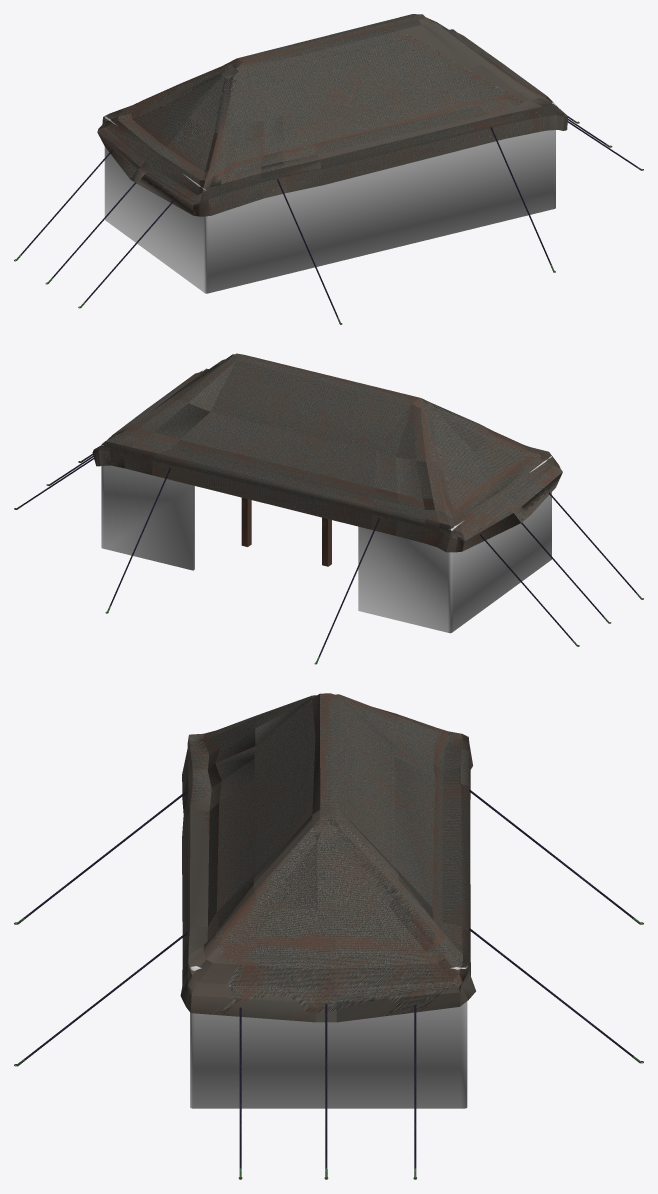
3 views of the same model, one above another, from view 1: azimuth 30°, elevation 25°; view 2: azimuth 150°, elevation 25°; view 3: azimuth 270°, elevation 25° (orthographic). The views are drawn at different scales.
Parts seen in each view (by area): view 1: Cube.015_Cube.001, Cube.015, Cylinder.003; view 2: Cube.015_Cube.001, Cube.015, Cylinder.003, RoadKillOut.000; view 3: Cube.015_Cube.001, Cube.015, Cylinder.003.
Boxes of the visible parts, x1,y1,x2,y2 form: Cube.015_Cube.001: (97, 14, 567, 216); Cube.015: (104, 31, 555, 293); Cylinder.003: (14, 116, 643, 324); Cube.015_Cube.001: (92, 353, 562, 552); Cube.015: (101, 370, 551, 633); Cylinder.003: (14, 454, 643, 664); RoadKillOut.000: (241, 497, 331, 566); Cube.015_Cube.001: (180, 693, 475, 1022); Cube.015: (190, 736, 467, 1108); Cylinder.003: (14, 789, 643, 1179).
Bounding box in the file's own units: 2 × 0.6352 × 1.42.
